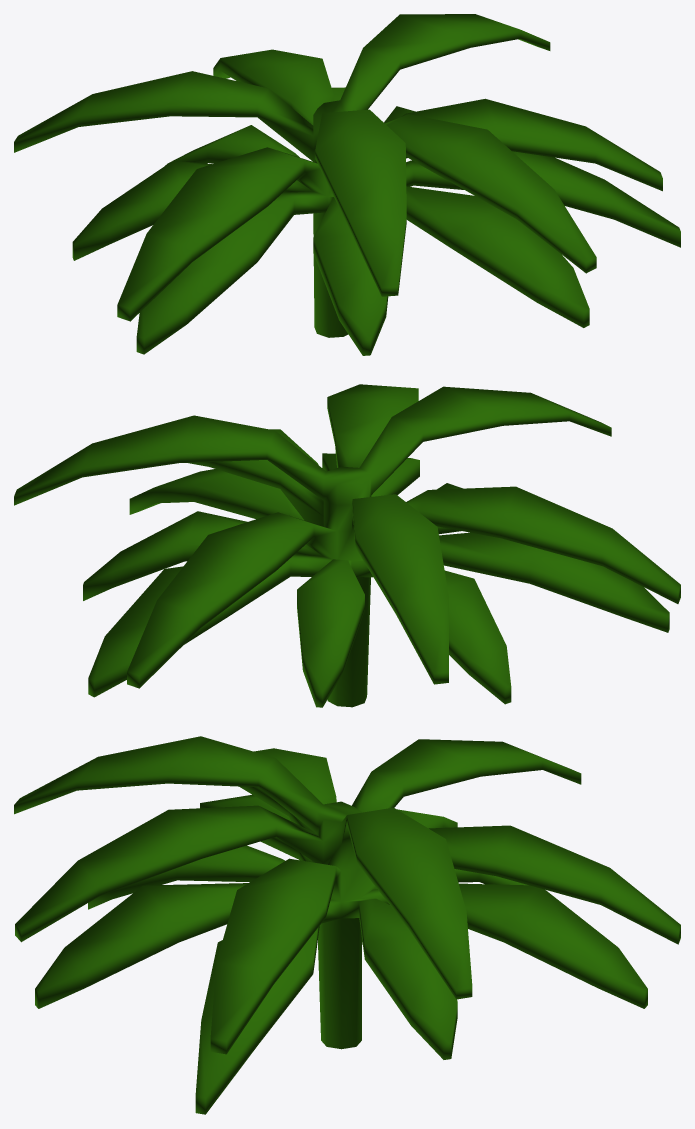
The model's file is Kasvi_lehti.fbx.
The picture shows the model from 3 angles, top to bottom: view 1: azimuth 30°, elevation 25°; view 2: azimuth 150°, elevation 25°; view 3: azimuth 270°, elevation 25°; orthographic projection. The views are drawn at different scales.
Parts seen in each view (by area): view 1: LehtiKasvi; view 2: LehtiKasvi; view 3: LehtiKasvi.
Part boxes in pixels (x1=…): LehtiKasvi: x1=14, y1=14, x2=680, y2=355; LehtiKasvi: x1=14, y1=384, x2=680, y2=707; LehtiKasvi: x1=14, y1=736, x2=680, y2=1114.
Bounding box in the file's own units: 46.39 × 20.1 × 46.64.
